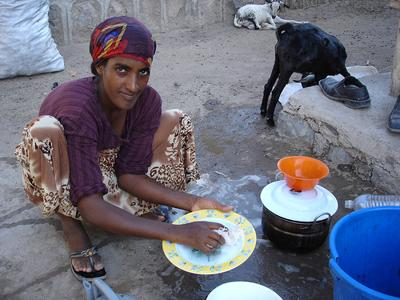person: (14, 18, 236, 281)
